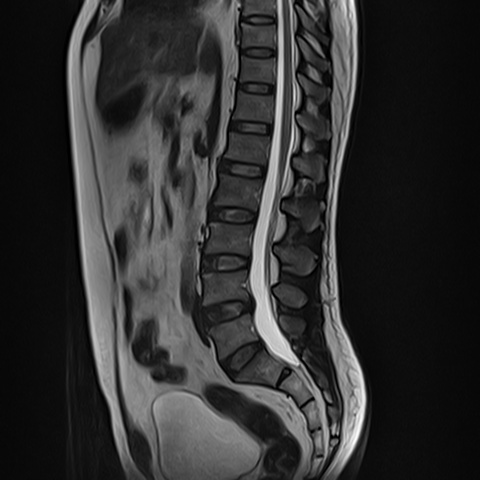L1,v1: (221, 132, 274, 161)
L1-L2,v1: (219, 154, 272, 183)
L2,v1: (212, 178, 265, 207)
L2-L3,v1: (211, 197, 264, 226)
L3,v2: (201, 223, 254, 252)
L3-L4,v1: (200, 249, 253, 278)
L4,v2: (199, 274, 252, 303)
L4-L5,v2: (203, 294, 256, 323)
L5,v2: (208, 322, 261, 351)
L5-S1,v1: (216, 342, 269, 371)
T12-L1,v1: (225, 113, 278, 142)
